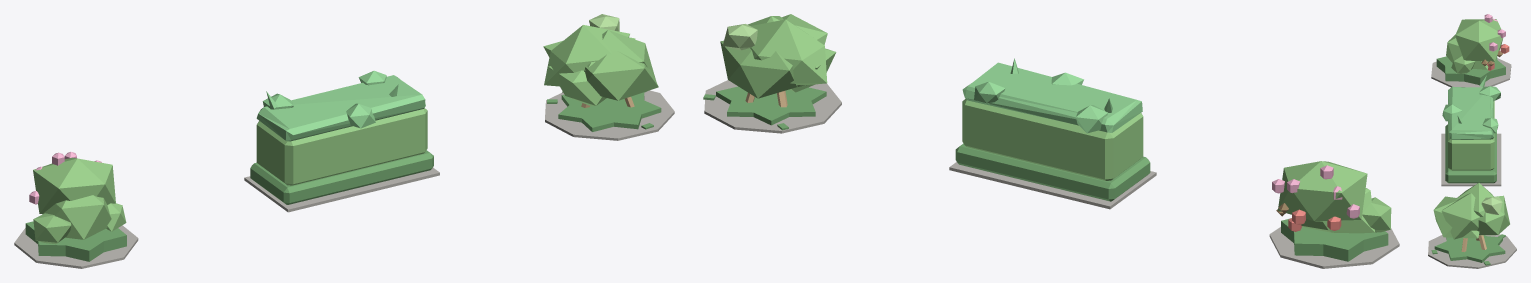
The model's file is Bush.fbx.
The picture shows the model from 3 angles, left to right: view 1: azimuth 30°, elevation 25°; view 2: azimuth 150°, elevation 25°; view 3: azimuth 270°, elevation 25°; orthographic projection. The views are drawn at different scales.
Visible parts, largest first — view 1: Bush.B_Body, Bush.A_Canopy, Bush.B_Top, Bush.C_Canopy, Bush.B_Base, Bush.A_Litter, Bush.A_Soil, Bush.C_Shade, Bush.C_Soil, Bush.B_Soil, Bush.A_Highlight; view 2: Bush.B_Body, Bush.B_Top, Bush.A_Canopy, Bush.C_Canopy, Bush.B_Base, Bush.A_Litter, Bush.A_Soil, Bush.C_Shade, Bush.B_Soil, Bush.C_Soil, Bush.A_Highlight, Bush.C_Blooms (+1 smaller); view 3: Bush.A_Canopy, Bush.B_Top, Bush.C_Canopy, Bush.B_Body, Bush.A_Litter, Bush.A_Soil, Bush.B_Base, Bush.C_Shade, Bush.B_Soil, Bush.C_Soil, Bush.A_Highlight, Bush.C_Blooms (+3 smaller).
Boxes of the visible parts, <box> form: Bush.B_Body: <box>256,108,427,185</box>; Bush.A_Canopy: <box>543,25,658,106</box>; Bush.B_Top: <box>256,70,425,141</box>; Bush.C_Canopy: <box>33,157,126,244</box>; Bush.B_Base: <box>250,150,433,204</box>; Bush.A_Litter: <box>547,91,661,131</box>; Bush.A_Soil: <box>545,90,674,140</box>; Bush.C_Shade: <box>25,221,126,261</box>; Bush.C_Soil: <box>14,225,138,268</box>; Bush.B_Soil: <box>244,167,439,212</box>; Bush.A_Highlight: <box>589,14,619,31</box>; Bush.B_Body: <box>962,99,1143,180</box>; Bush.B_Top: <box>962,58,1142,133</box>; Bush.A_Canopy: <box>720,14,836,98</box>; Bush.C_Canopy: <box>1278,161,1391,233</box>; Bush.B_Base: <box>955,143,1150,201</box>; Bush.A_Litter: <box>703,86,826,130</box>; Bush.A_Soil: <box>704,80,841,133</box>; Bush.C_Shade: <box>1281,218,1388,261</box>; Bush.B_Soil: <box>949,162,1156,209</box>; Bush.C_Soil: <box>1269,227,1399,268</box>; Bush.A_Highlight: <box>722,24,757,50</box>; Bush.C_Blooms: <box>1272,165,1359,218</box>; Bush.A_Canopy: <box>1433,183,1509,239</box>; Bush.B_Top: <box>1442,75,1500,139</box>; Bush.C_Canopy: <box>1446,19,1502,73</box>; Bush.B_Body: <box>1448,101,1494,170</box>; Bush.A_Litter: <box>1431,234,1505,265</box>; Bush.A_Soil: <box>1428,234,1516,268</box>; Bush.B_Base: <box>1445,124,1496,183</box>; Bush.C_Shade: <box>1436,56,1505,84</box>; Bush.B_Soil: <box>1441,133,1501,186</box>; Bush.C_Soil: <box>1431,58,1511,87</box>; Bush.A_Highlight: <box>1481,196,1502,214</box>; Bush.C_Blooms: <box>1484,14,1505,51</box>.
Size of the model in its own units: 16.84 by 2.38 by 2.96.
